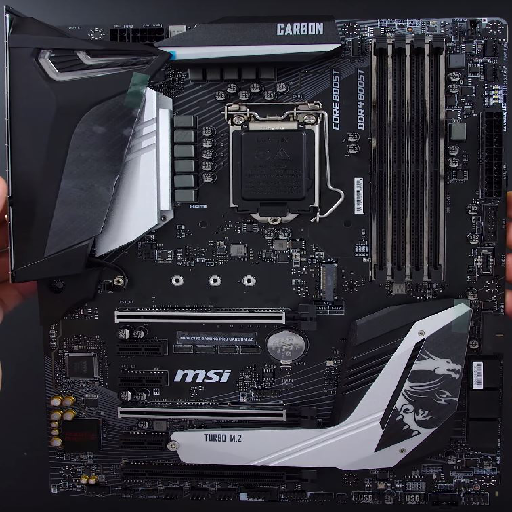CPU: (226, 103, 330, 226)
GPU: (112, 307, 316, 332), (118, 403, 315, 424)
MOTHERBOARD: (10, 7, 509, 511)
RAM: (368, 31, 452, 289)
SSD: (319, 261, 341, 301)
